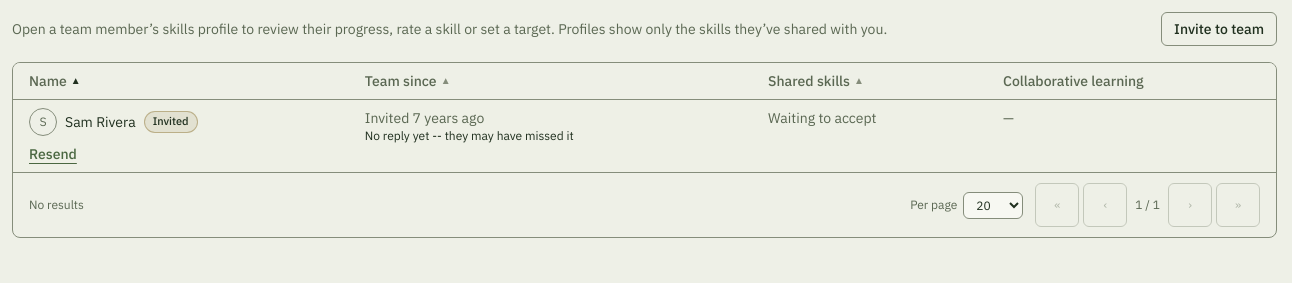
it: ManagerTeamPanel › flags an invitation with no reply for a fortnight and offers to resend it
Expected: the text "No reply yet -- they may have missed it" is shown, [365,128,574,143]
Step 1. Click the button with aria-label "Resend invitation to Sam Rivera" → (53,154), box [29,144,77,164]
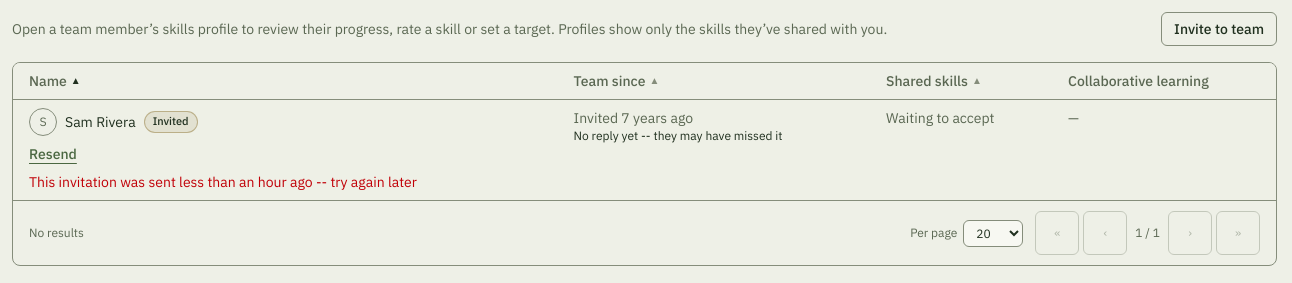
Now the message shows "less than an hour ago", box [29,173,417,191]
